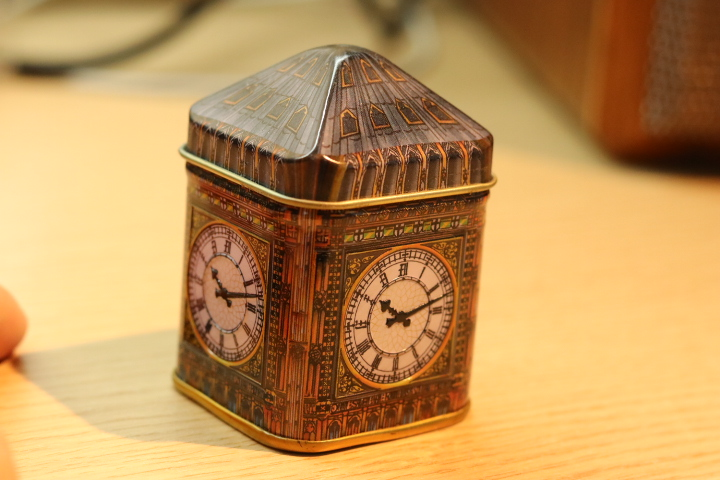Big Ben: (166, 41, 504, 463)
